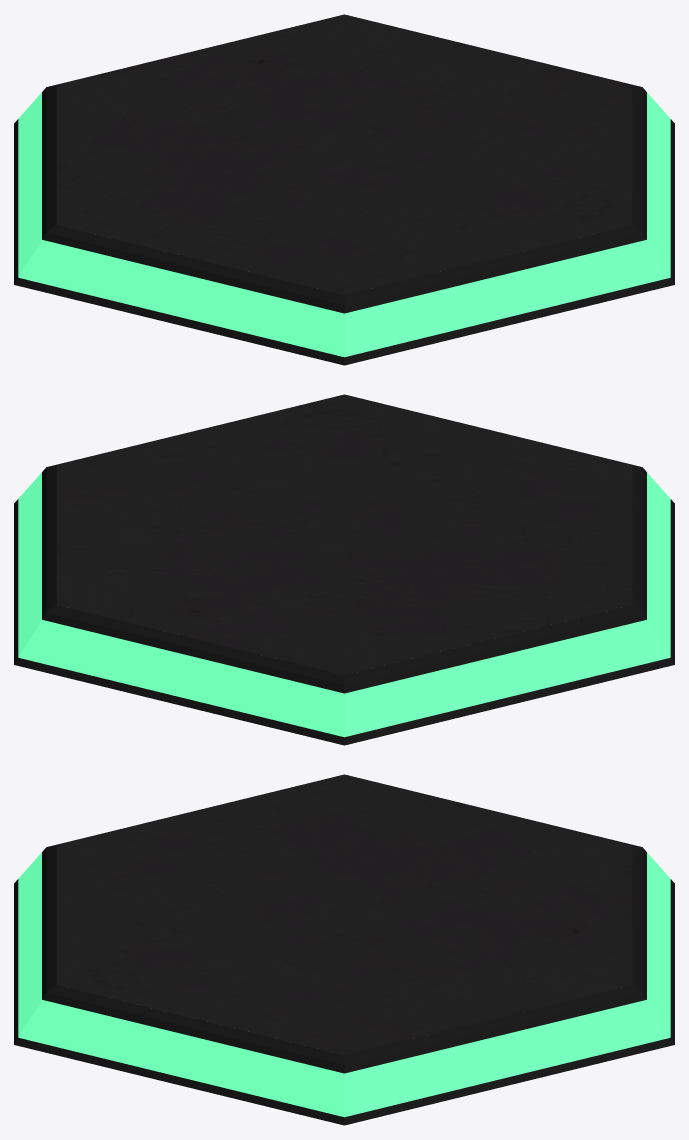
The model's file is jb2ahex1.glb.
The picture shows the model from 3 angles, top to bottom: view 1: azimuth 30°, elevation 25°; view 2: azimuth 150°, elevation 25°; view 3: azimuth 270°, elevation 25°; orthographic projection.
Visible parts, largest first — view 1: base; view 2: base; view 3: base.
Part boxes in pixels (left/top/right/bottom): base: left=14, top=14, right=674, bottom=365; base: left=14, top=394, right=674, bottom=745; base: left=14, top=774, right=674, bottom=1125.
Size of the model in its own units: 2 by 0.1428 by 1.73.
3 materials, 1 textured.
